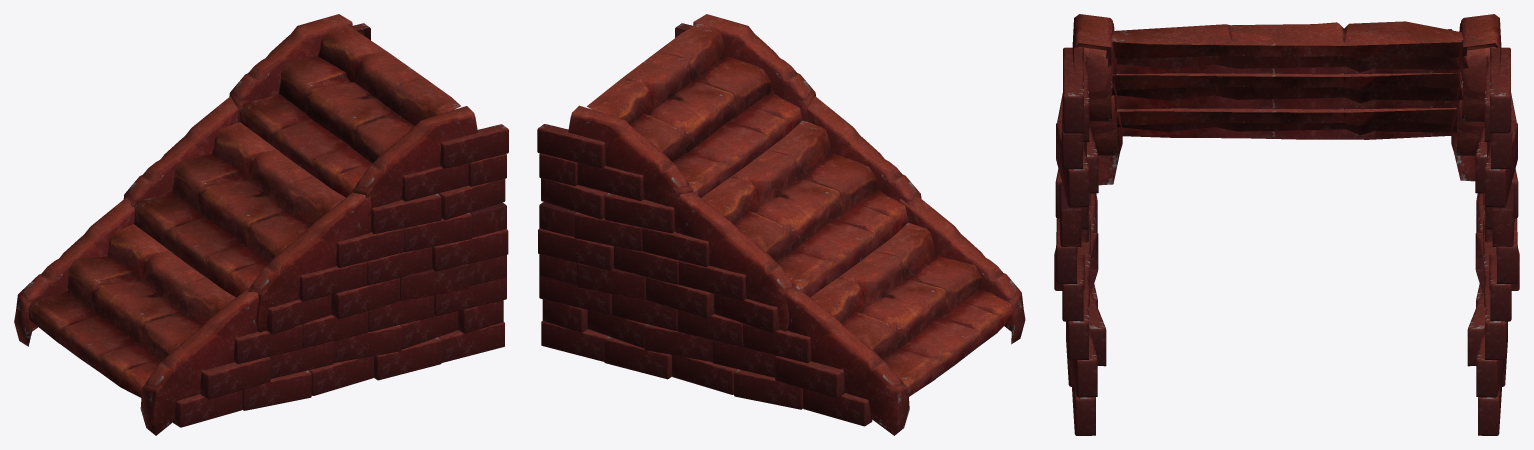
Rendered from SM_RedStairs.glb.
The picture shows the model from 3 angles, left to right: view 1: azimuth 30°, elevation 25°; view 2: azimuth 150°, elevation 25°; view 3: azimuth 270°, elevation 25°; orthographic projection. The views are drawn at different scales.
Parts seen in each view (by area): view 1: SM_RedStairs_LOD0; view 2: SM_RedStairs_LOD0; view 3: SM_RedStairs_LOD0.
Boxes of the visible parts, <box> form: SM_RedStairs_LOD0: <box>14,14,508,435</box>; SM_RedStairs_LOD0: <box>537,14,1025,435</box>; SM_RedStairs_LOD0: <box>1054,14,1519,435</box>.
Bounding box in the file's own units: 5.74 × 3.84 × 4.21.
Materials: 1 (1 with a texture image).
